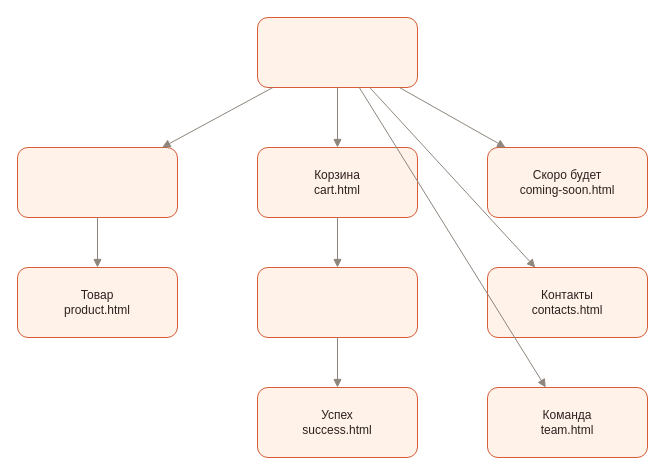
The diagram is 665 pixels wide and 475 high, and some of its shapes have lost their labels. The box of each missing label's shape, as (x1, y1, x2, y2) in pixels:
Главная index.html: (256, 16, 418, 88)
Меню catalog.html: (16, 146, 178, 218)
Оформление checkout.html: (256, 266, 418, 338)
